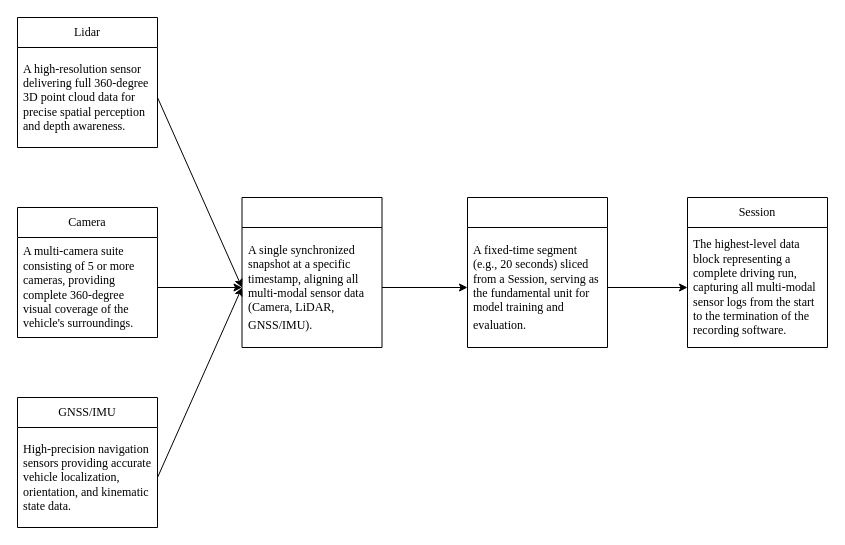
This 845x545 diagram has some shape labels left out. The shapes that lost their labels are listed below. From the top down, each one's box as (x1, y1, x2, y2) in pixels, then its label:
(241, 196, 382, 348): Frame
(466, 196, 608, 348): Clip
